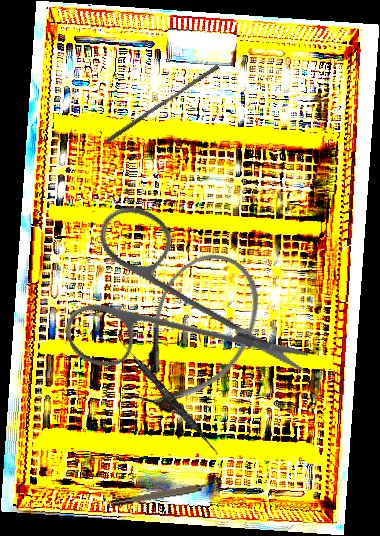Cannula: (111, 235, 281, 434)
Fixation Ring: (109, 476, 224, 509)
Iris Scissors: (28, 162, 315, 453)
Pusher: (104, 60, 221, 148)
Spatula Surgical: (111, 333, 223, 456)
